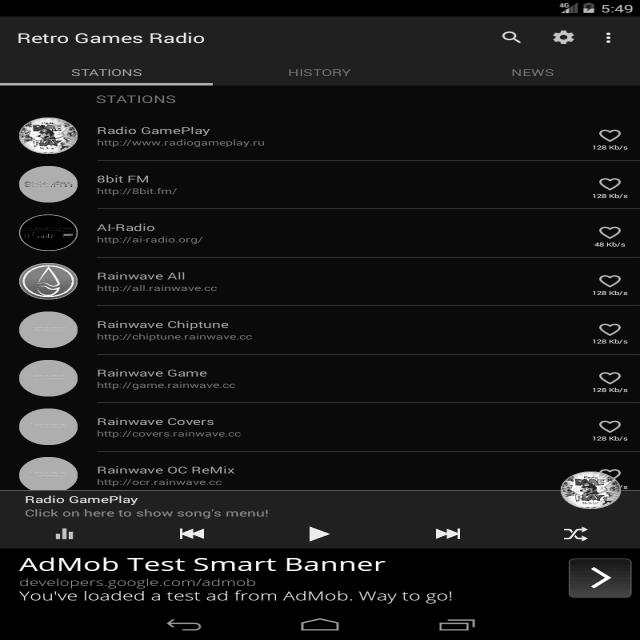ImageButton: (556, 552, 638, 604), (548, 22, 586, 48), (586, 23, 624, 49), (490, 30, 530, 46)
ImageView: (7, 212, 86, 258), (6, 164, 84, 208), (4, 404, 86, 444), (8, 354, 82, 398), (7, 110, 84, 152), (4, 265, 90, 301), (6, 309, 84, 347), (26, 456, 76, 497)
TextView: (17, 552, 460, 610), (18, 491, 281, 524), (91, 360, 292, 394), (91, 118, 294, 150), (84, 218, 235, 258), (100, 311, 257, 349), (87, 408, 248, 439), (18, 29, 214, 54), (255, 61, 408, 89), (90, 464, 255, 486), (90, 271, 238, 294), (87, 170, 206, 194), (49, 60, 150, 80), (485, 67, 563, 79)
